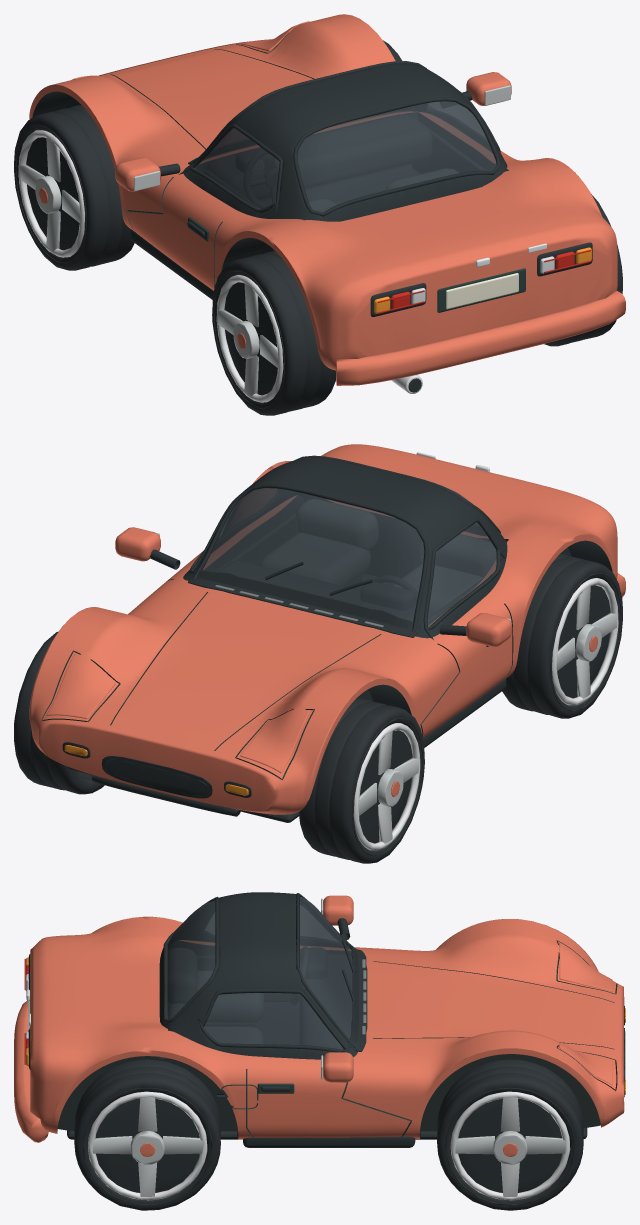
File: kogarashi_lod1.fbx
The picture shows the model from 3 angles, top to bottom: view 1: azimuth 30°, elevation 25°; view 2: azimuth 150°, elevation 25°; view 3: azimuth 270°, elevation 25°; orthographic projection. The views are drawn at different scales.
Visible parts, largest first — view 1: Body, Wheel_FL_Mesh, Wheel_RL_Mesh, Wheel_RR_Mesh; view 2: Body, Wheel_FL_Mesh, Wheel_RL_Mesh, Wheel_FR_Mesh; view 3: Body, Wheel_FR_Mesh, Wheel_RR_Mesh.
Part boxes in pixels (x1,y1,x2,y2): Body: (29,14,625,393); Wheel_FL_Mesh: (14,105,134,270); Wheel_RL_Mesh: (212,250,335,415); Wheel_RR_Mesh: (544,194,622,346); Body: (29,444,625,822); Wheel_FL_Mesh: (298,698,424,863); Wheel_RL_Mesh: (502,553,622,718); Wheel_FR_Mesh: (14,632,104,794); Body: (14,892,625,1147); Wheel_FR_Mesh: (437,1059,583,1210); Wheel_RR_Mesh: (74,1059,220,1210).
Bounding box in the file's own units: 222 × 131 × 334.
